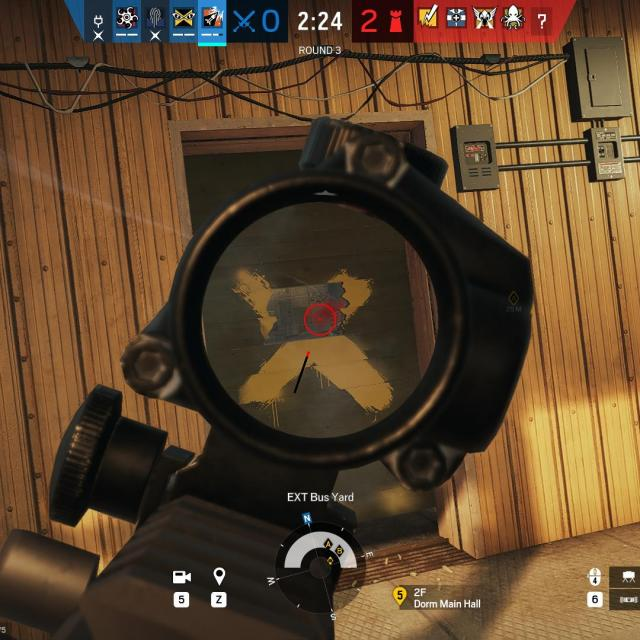Character: (331, 300, 348, 336)
